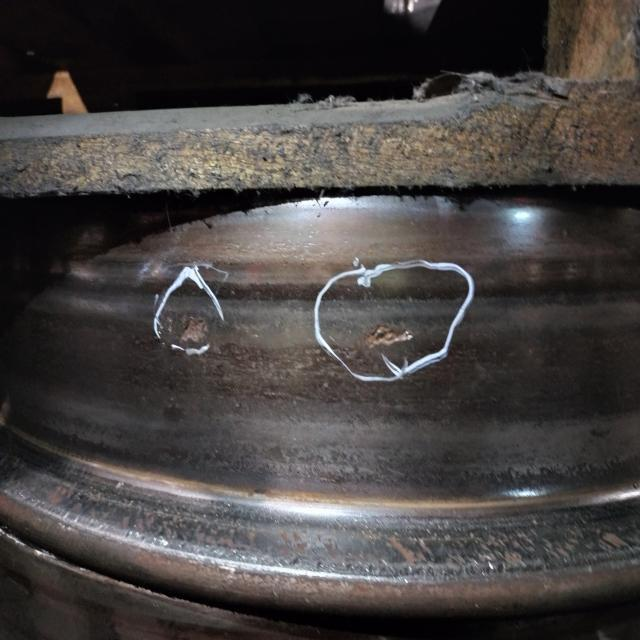Blue hole: (165, 310, 216, 354)
Peeling: (365, 325, 417, 350)
